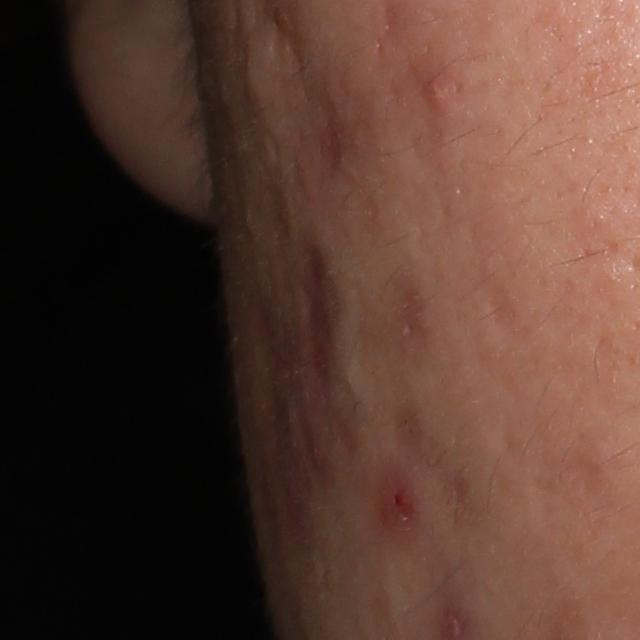atrophic_scar: (283, 242, 363, 468), (506, 444, 614, 601), (387, 392, 491, 549), (368, 253, 434, 386), (388, 104, 461, 202), (250, 132, 297, 257), (339, 185, 384, 266), (484, 278, 522, 351)
papule: (372, 482, 419, 530), (419, 74, 453, 107)
